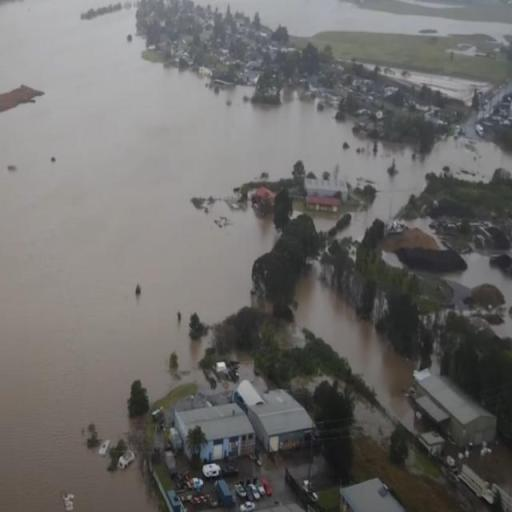flood: (0, 0, 512, 512), (297, 271, 413, 418), (446, 253, 512, 306), (390, 68, 489, 99), (464, 439, 512, 496), (496, 317, 512, 336)
house: (234, 376, 314, 458), (172, 400, 256, 467), (410, 367, 487, 438), (382, 220, 460, 280), (339, 474, 412, 512), (305, 177, 351, 197), (306, 194, 340, 214)
